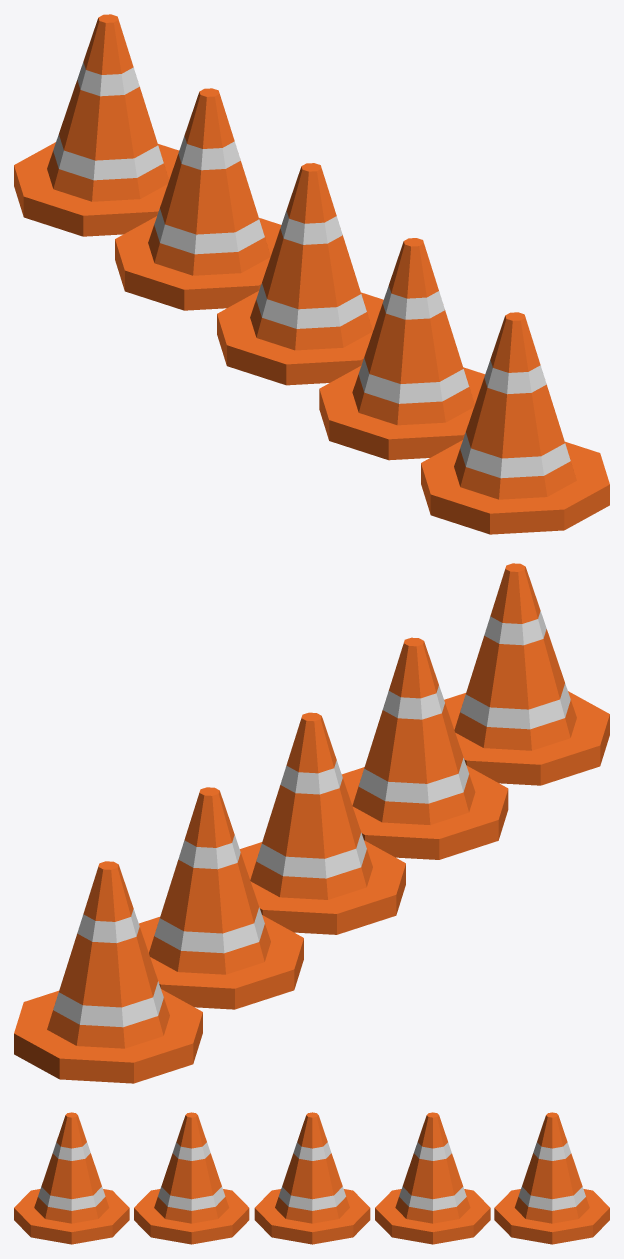
3 renders of one model, top to bottom at view 1: azimuth 30°, elevation 25°; view 2: azimuth 150°, elevation 25°; view 3: azimuth 270°, elevation 25°, orthographic. The views are drawn at different scales.
Parts seen in each view (by area): view 1: Circle.002, Circle, Circle.001, Circle.003, Circle.004; view 2: Circle.004, Circle.003, Circle, Circle.002, Circle.001; view 3: Circle, Circle.002, Circle.004, Circle.001, Circle.003.
Part boxes in pixels (x1,y1,x2,y2): Circle.002: (421,312,609,534); Circle: (217,163,383,385); Circle.001: (115,88,281,310); Circle.003: (319,238,484,460); Circle.004: (14,14,178,236); Circle.004: (14,861,202,1083); Circle.003: (342,637,508,859); Circle: (240,712,405,934); Circle.002: (444,563,609,785); Circle.001: (139,787,303,1009); Circle: (254,1112,370,1244); Circle.002: (14,1112,129,1244); Circle.004: (494,1112,609,1244); Circle.001: (375,1112,490,1244); Circle.003: (134,1112,249,1244).
Bounding box in the file's own units: 200 × 201 × 1032.
